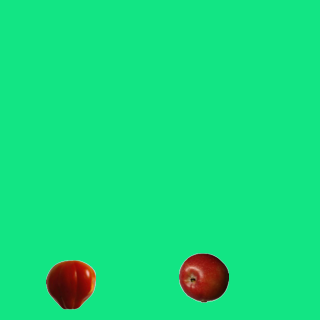Apple Braeburn: (178, 252, 228, 302)
Tomato 1: (45, 259, 95, 309)
